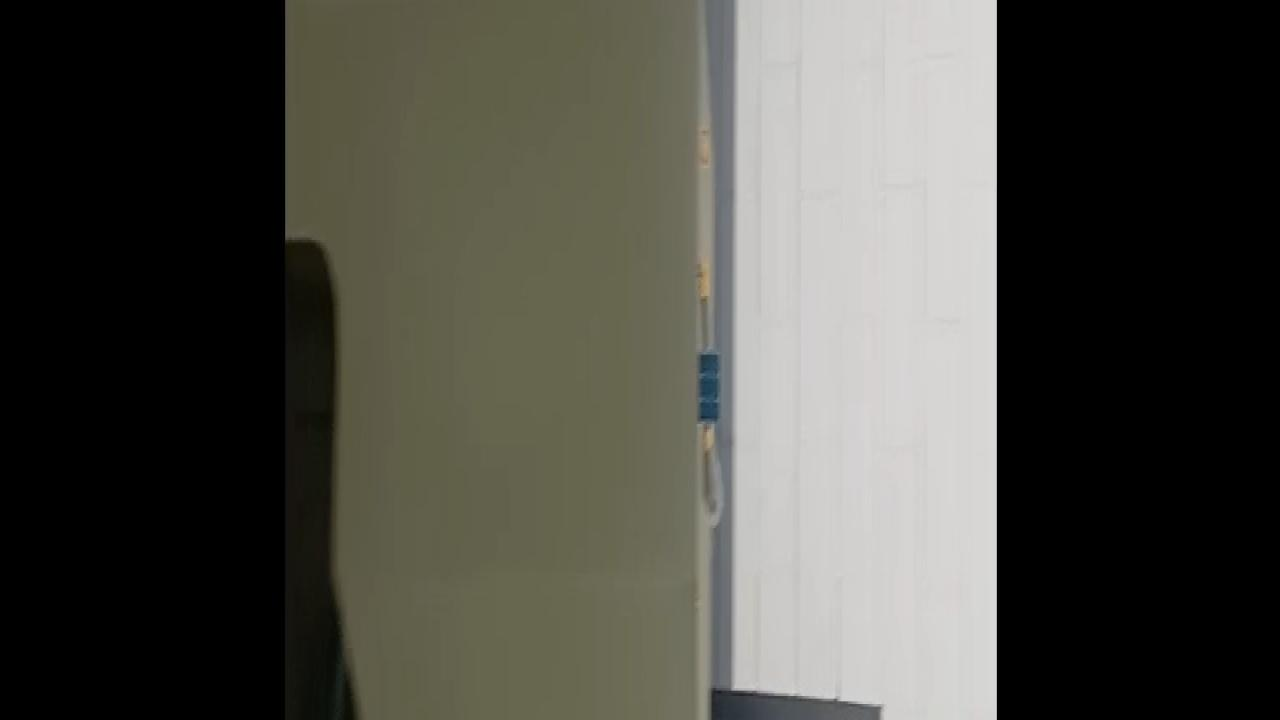Cube: (697, 351, 717, 423)
